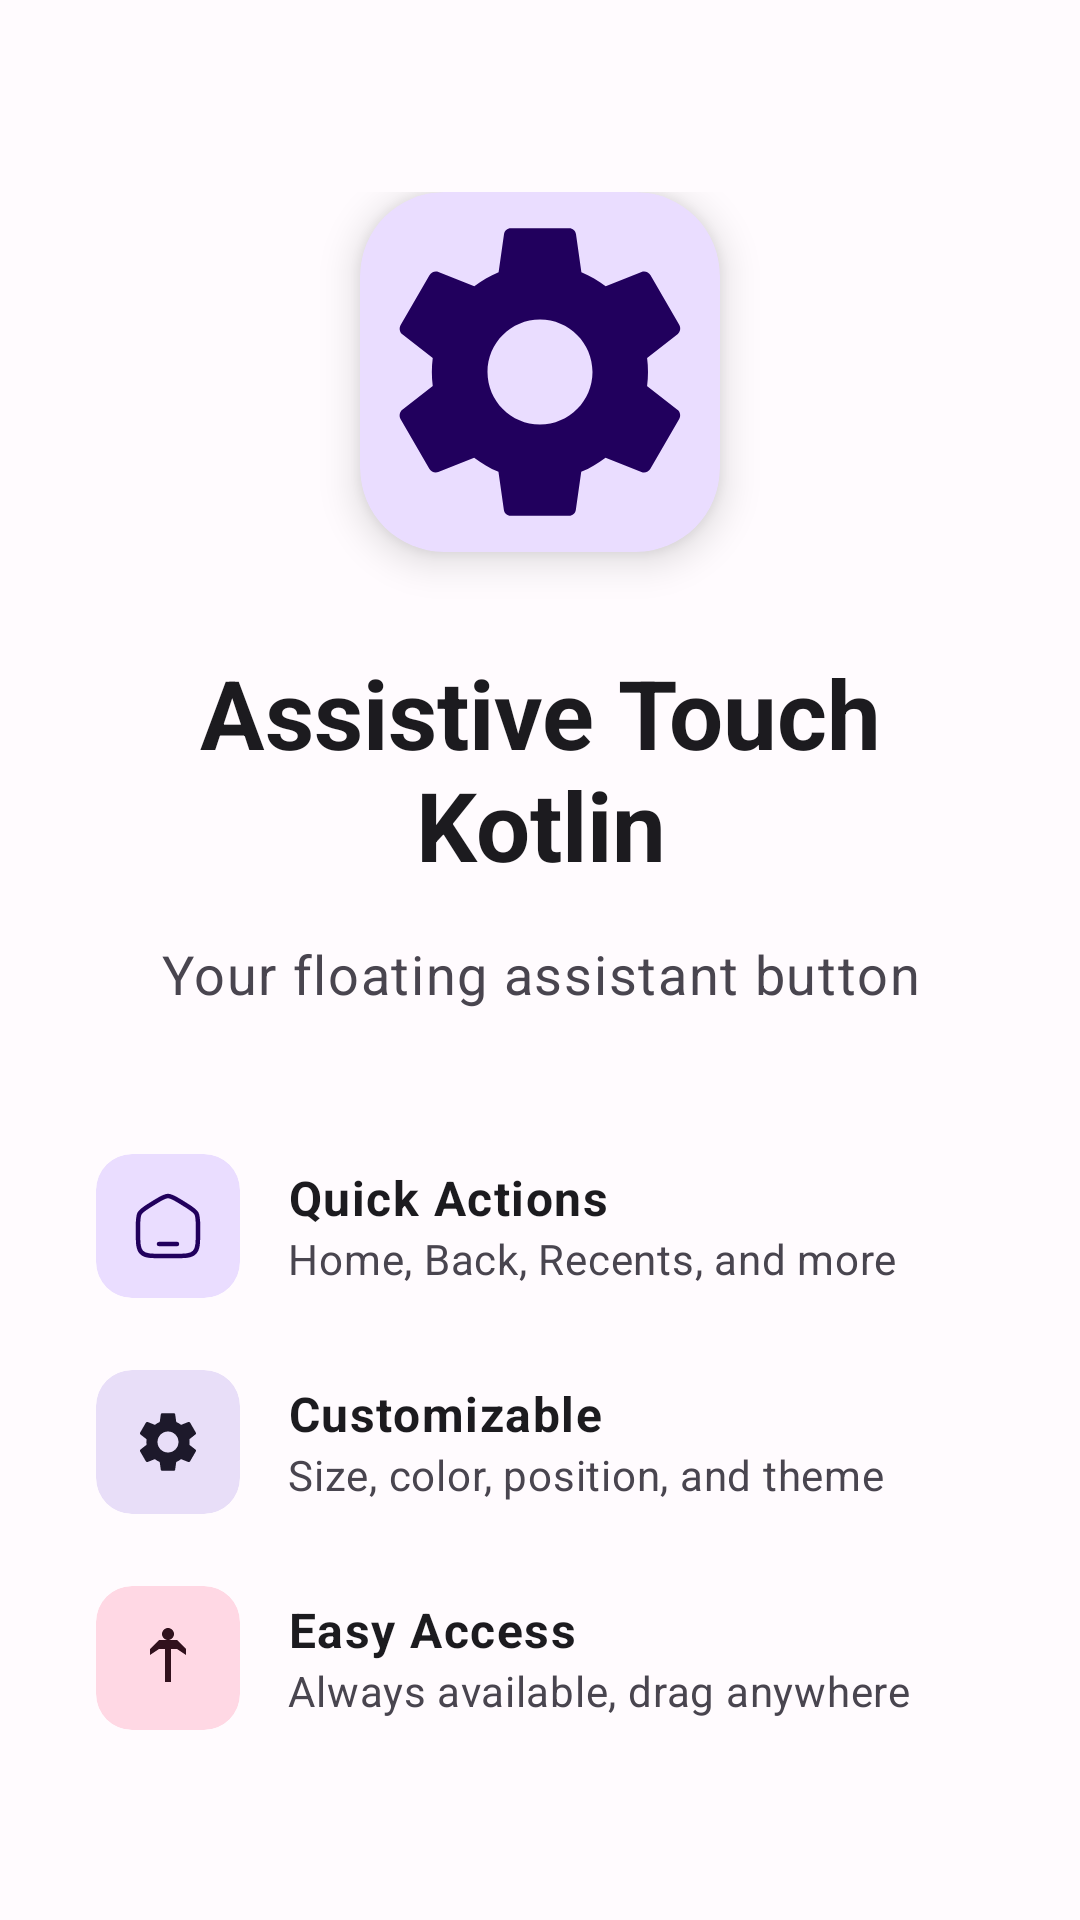

Where icons sit on this 1080w x 1920h app screen, as Rect(x1, y1, x2, y2):
accessibility: Rect(150, 1628, 186, 1682)
home modern: Rect(135, 1193, 201, 1259)
settings: Rect(360, 192, 720, 552), Rect(140, 1413, 196, 1471)
